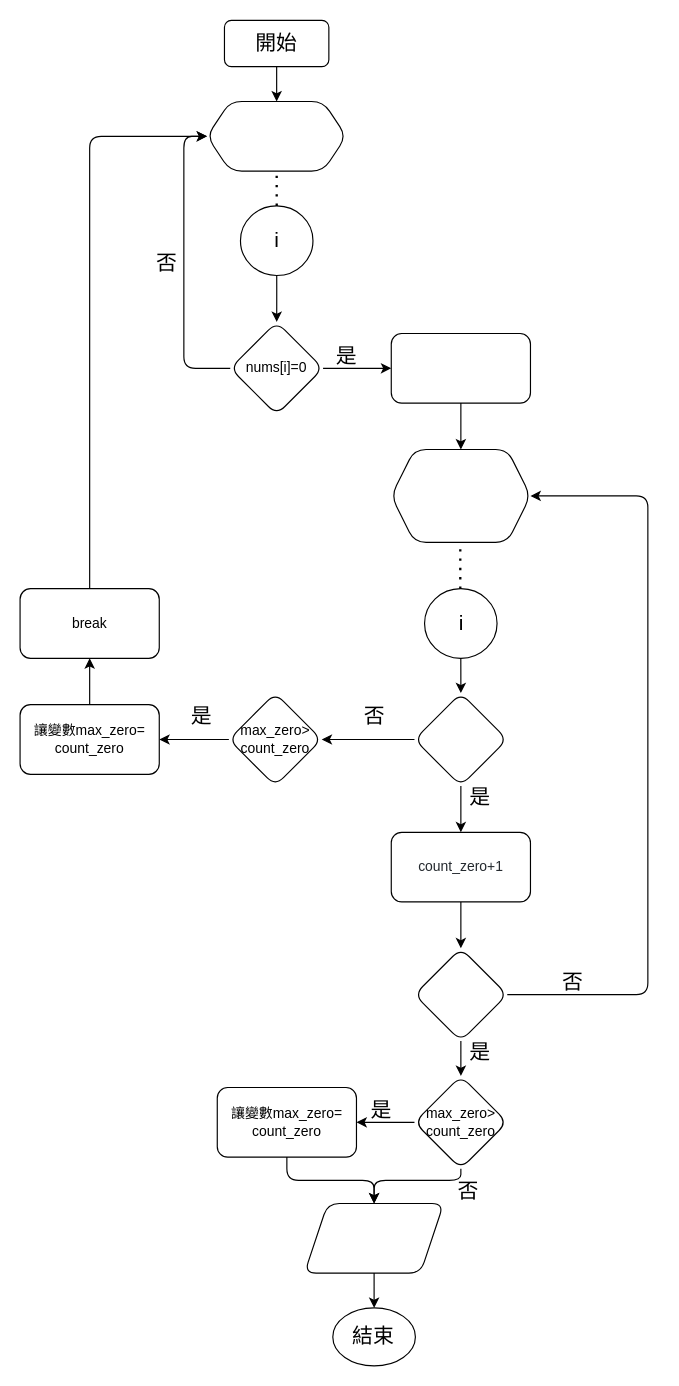
Some shapes in this 679 by 1386 pixel diagram are drawn without their labels. The shapes that lost their labels are listed below. From the top down, each one's centre as x and y in pixels, then its label:
At (276,135): "for i=0 to len(nums)".
At (460,367): "變數count_zero=1".
At (460,495): "for j=i+1 to len(nums)".
At (460,739): "nums[j]=0".
At (460,994): "j+1= len(nums)".
At (373,1237): "輸出串列 最大連續幾個0".
